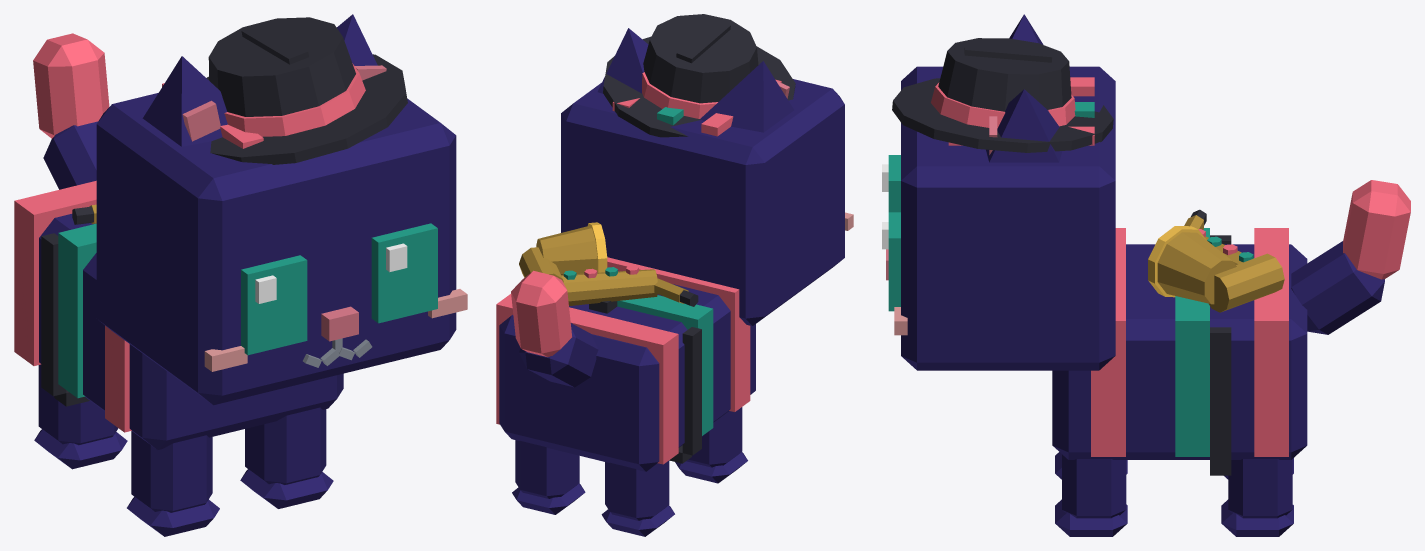
The model's file is CatCafe_Cat_Neon.glb.
3 renders of one model, left to right at view 1: azimuth 30°, elevation 25°; view 2: azimuth 150°, elevation 25°; view 3: azimuth 270°, elevation 25°, orthographic. The views are drawn at different scales.
Visible parts, largest first — view 1: CatCafe_Cat_Neon_Head, CatCafe_Cat_Neon_Body, CatCafe_Cat_Neon_Prop, CatCafe_Cat_Neon_Tail, CatCafe_Cat_Neon_LegF2, CatCafe_Cat_Neon_LegF1, CatCafe_Cat_Neon_Eye1, CatCafe_Cat_Neon_Eye2, CatCafe_Cat_Neon_LegB2, CatCafe_Cat_Neon_EarR, CatCafe_Cat_Neon_Prop2, CatCafe_Cat_Neon_EarL; view 2: CatCafe_Cat_Neon_Head, CatCafe_Cat_Neon_Body, CatCafe_Cat_Neon_Prop, CatCafe_Cat_Neon_Prop2, CatCafe_Cat_Neon_Tail, CatCafe_Cat_Neon_LegB2, CatCafe_Cat_Neon_LegB1, CatCafe_Cat_Neon_EarR, CatCafe_Cat_Neon_LegF2, CatCafe_Cat_Neon_EarL; view 3: CatCafe_Cat_Neon_Head, CatCafe_Cat_Neon_Body, CatCafe_Cat_Neon_Prop, CatCafe_Cat_Neon_Prop2, CatCafe_Cat_Neon_Tail, CatCafe_Cat_Neon_LegF1, CatCafe_Cat_Neon_LegB1, CatCafe_Cat_Neon_EarL, CatCafe_Cat_Neon_Eye1, CatCafe_Cat_Neon_Eye2.
Boxes of the visible parts, <box> form: CatCafe_Cat_Neon_Head: <box>96,83,467,405</box>; CatCafe_Cat_Neon_Body: <box>14,180,343,449</box>; CatCafe_Cat_Neon_Prop: <box>206,17,407,164</box>; CatCafe_Cat_Neon_Tail: <box>33,33,109,189</box>; CatCafe_Cat_Neon_LegF2: <box>127,431,219,536</box>; CatCafe_Cat_Neon_LegF1: <box>240,407,333,508</box>; CatCafe_Cat_Neon_Eye1: <box>371,223,437,323</box>; CatCafe_Cat_Neon_Eye2: <box>241,255,307,355</box>; CatCafe_Cat_Neon_LegB2: <box>34,364,127,469</box>; CatCafe_Cat_Neon_EarR: <box>142,56,227,146</box>; CatCafe_Cat_Neon_Prop2: <box>41,204,96,406</box>; CatCafe_Cat_Neon_EarL: <box>336,14,386,80</box>; CatCafe_Cat_Neon_Head: <box>561,79,853,326</box>; CatCafe_Cat_Neon_Body: <box>496,257,755,471</box>; CatCafe_Cat_Neon_Prop: <box>603,14,795,137</box>; CatCafe_Cat_Neon_Prop2: <box>519,222,701,463</box>; CatCafe_Cat_Neon_Tail: <box>511,270,598,387</box>; CatCafe_Cat_Neon_LegB2: <box>601,460,674,536</box>; CatCafe_Cat_Neon_LegB1: <box>512,440,585,514</box>; CatCafe_Cat_Neon_EarR: <box>700,61,793,132</box>; CatCafe_Cat_Neon_LegF2: <box>675,407,747,483</box>; CatCafe_Cat_Neon_EarL: <box>597,28,648,93</box>; CatCafe_Cat_Neon_Head: <box>886,66,1115,370</box>; CatCafe_Cat_Neon_Body: <box>1052,228,1307,459</box>; CatCafe_Cat_Neon_Prop: <box>892,38,1113,152</box>; CatCafe_Cat_Neon_Prop2: <box>1148,209,1284,475</box>; CatCafe_Cat_Neon_Tail: <box>1291,180,1410,334</box>; CatCafe_Cat_Neon_LegF1: <box>1055,454,1127,536</box>; CatCafe_Cat_Neon_LegB1: <box>1221,459,1293,536</box>; CatCafe_Cat_Neon_EarL: <box>986,89,1062,162</box>; CatCafe_Cat_Neon_Eye1: <box>882,212,900,311</box>; CatCafe_Cat_Neon_Eye2: <box>882,155,900,212</box>.
Size of the model in its own units: 1 by 1.88 by 1.97.
Materials: 1 (1 with a texture image).
